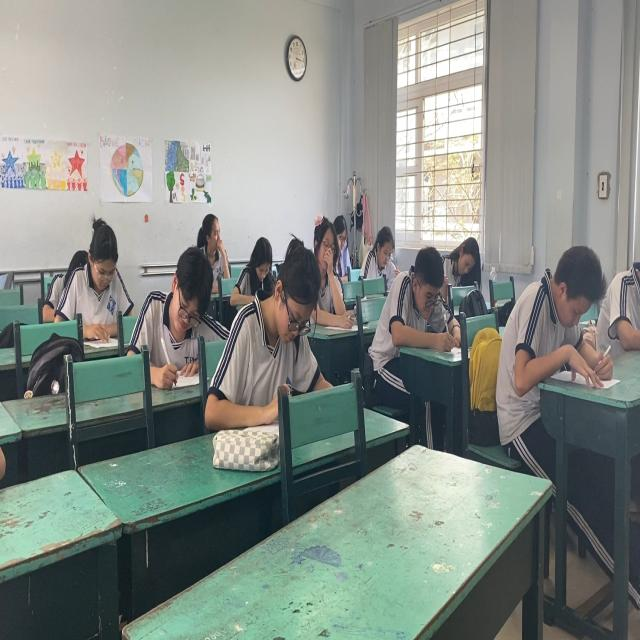not_cheating: (507, 244, 610, 378), (142, 250, 216, 374), (64, 208, 136, 333), (274, 226, 317, 388), (393, 247, 445, 351), (309, 203, 344, 312), (192, 202, 233, 292), (244, 236, 280, 298), (449, 236, 485, 298), (363, 229, 396, 275)
